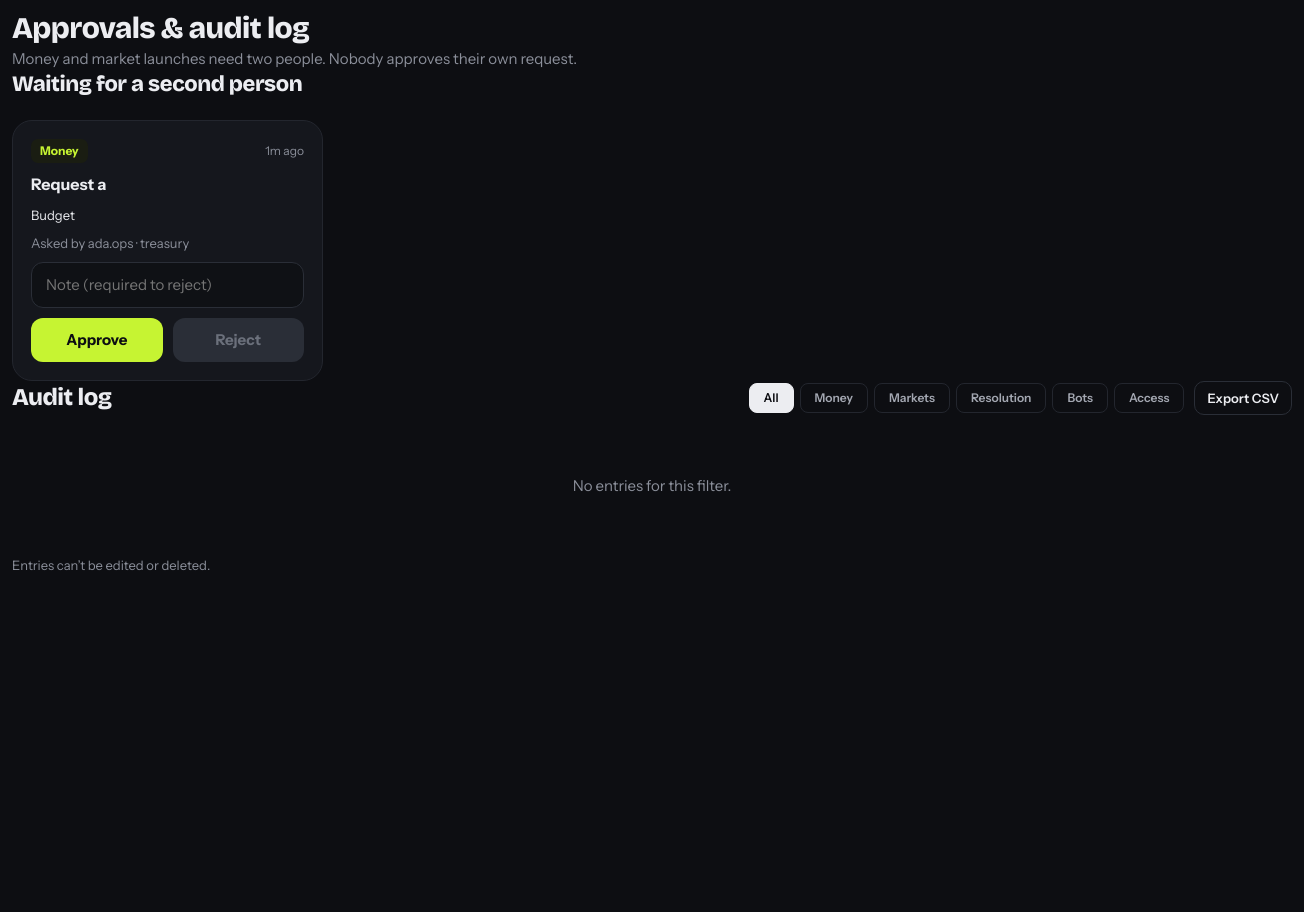
Test case: approvals › should point to settings when a fresh authenticator code is needed
Click the button "Approve": (97,340) [31,318,162,362]
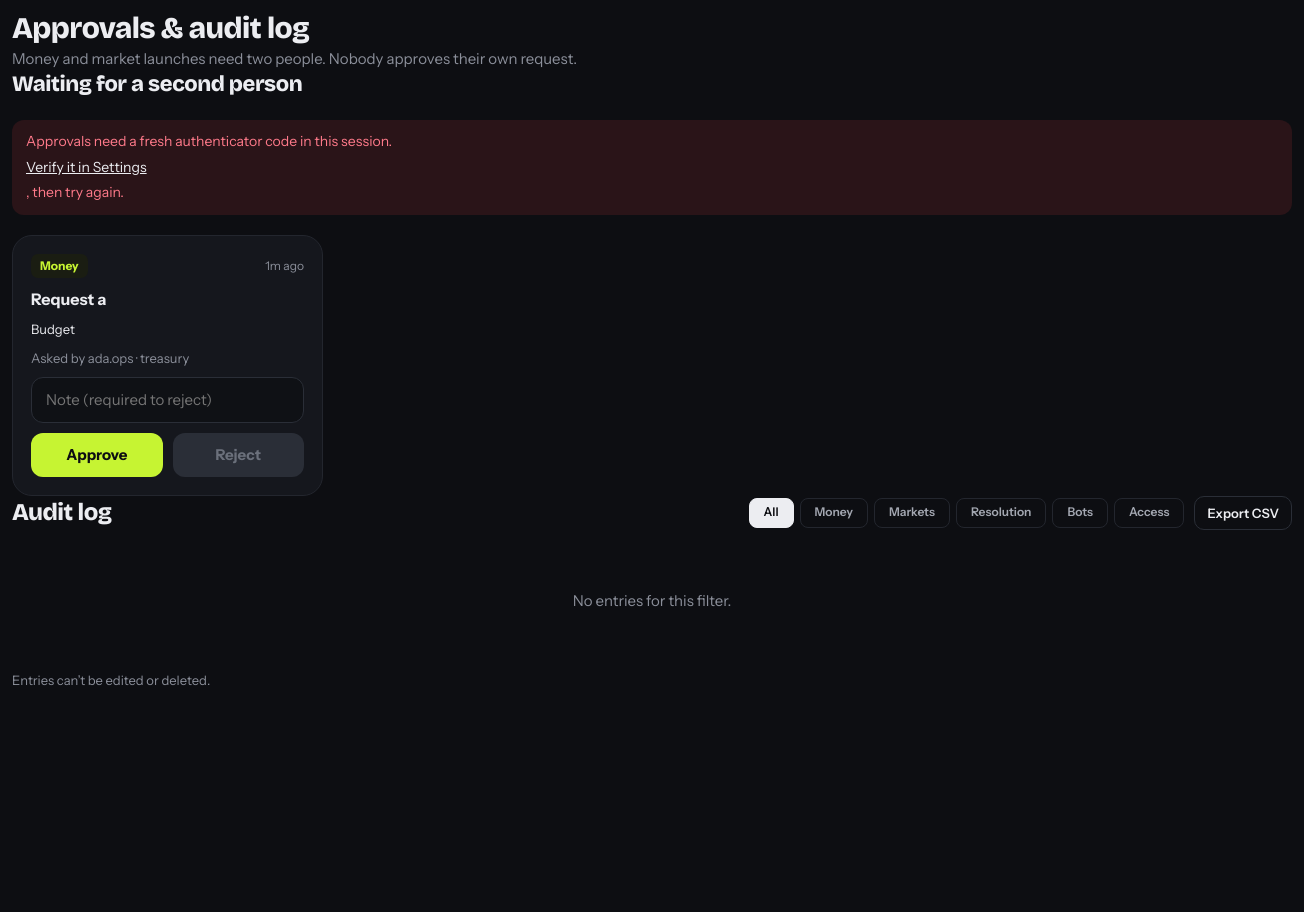
Result: the link "Verify it in Settings" is shown at [26,158,147,176]
